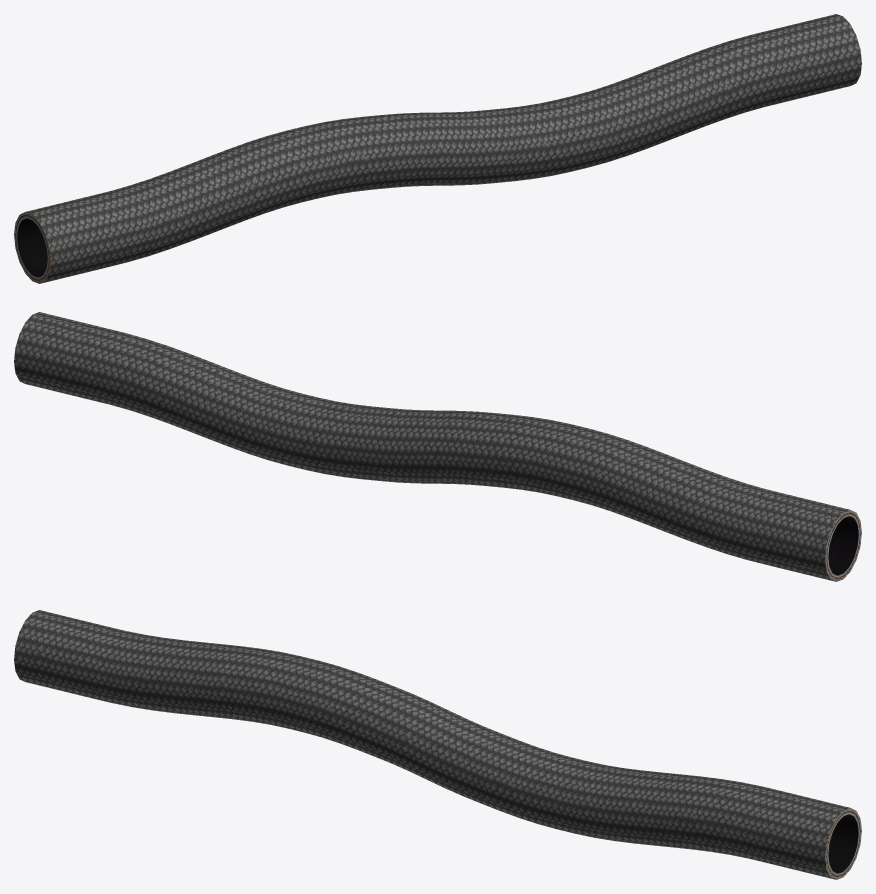
The picture shows the model from 3 angles, top to bottom: view 1: azimuth 30°, elevation 25°; view 2: azimuth 150°, elevation 25°; view 3: azimuth 330°, elevation 25°; orthographic projection.
Parts seen in each view (by area): view 1: ProBlack_SB_Aramid-12; view 2: ProBlack_SB_Aramid-12; view 3: ProBlack_SB_Aramid-12.
Part boxes in pixels (x1,y1,x2,y2): ProBlack_SB_Aramid-12: (14,14,861,283); ProBlack_SB_Aramid-12: (14,312,861,581); ProBlack_SB_Aramid-12: (14,610,861,879).
Bounding box in the file's own units: 0.3074 × 0.0369 × 0.0242.
2 materials, 2 textured.
